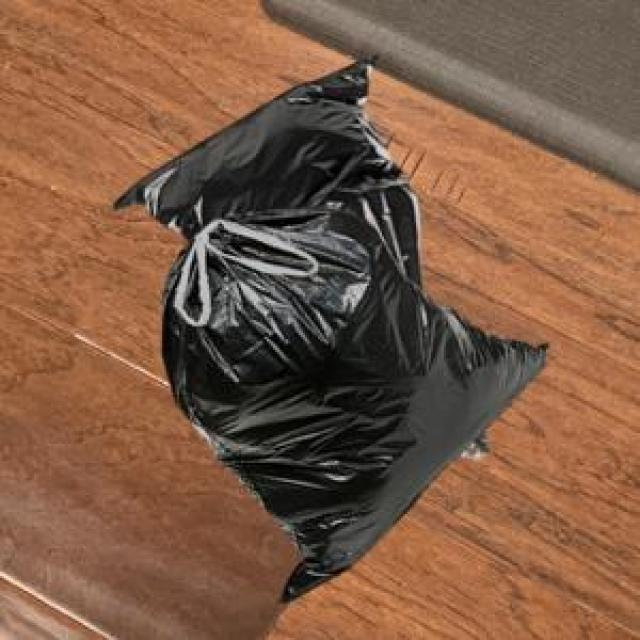miscellaneous trash: (158, 201, 544, 600), (109, 51, 482, 454)
